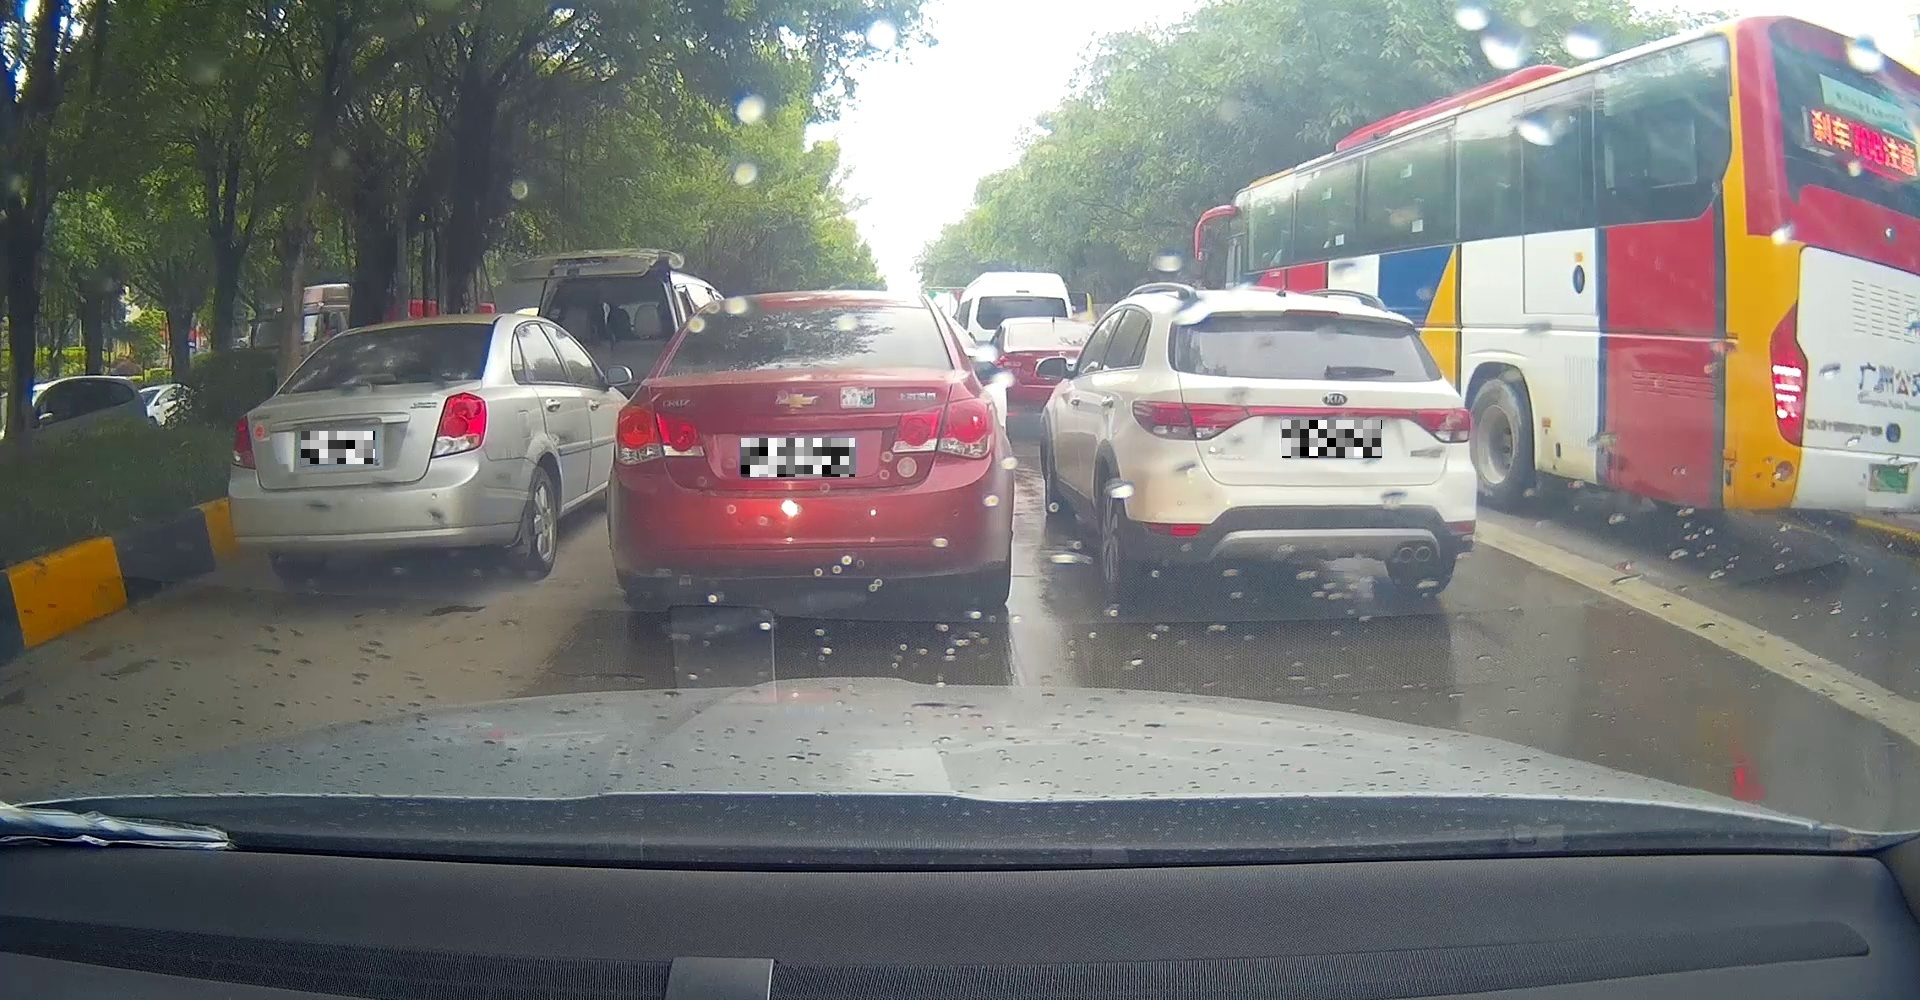L_light: (613, 405, 705, 464), (1131, 398, 1250, 440), (230, 412, 257, 470)
R_light: (890, 396, 996, 459), (430, 392, 488, 459), (1410, 407, 1472, 443)
T_light: (773, 357, 837, 368), (1283, 308, 1338, 319), (349, 373, 396, 385)
day-no: (607, 291, 1015, 610), (1130, 291, 1477, 596), (226, 313, 495, 582)
plate_1: (301, 431, 375, 464)
plate_2: (742, 438, 855, 477)
plate_3: (1283, 420, 1382, 458)
